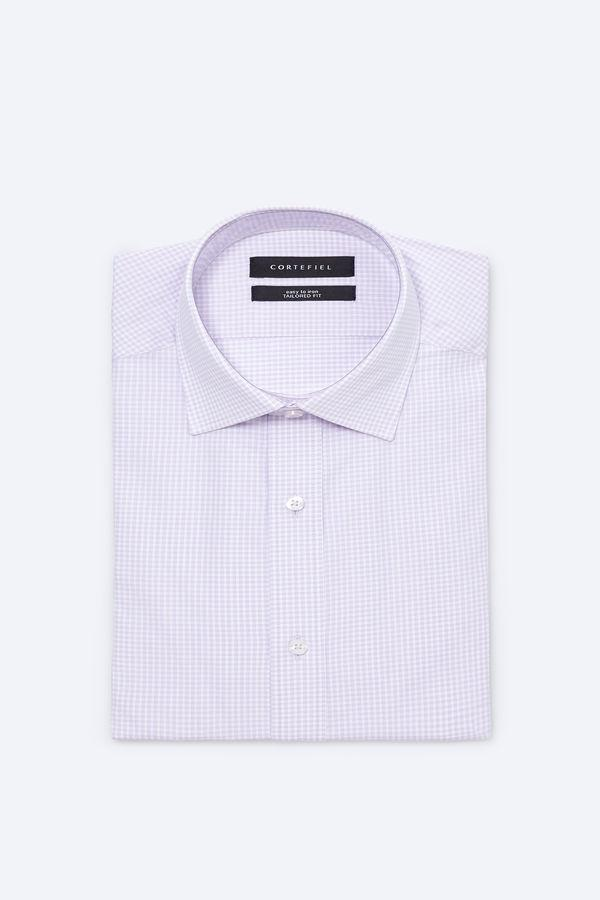teeshirt: (86, 201, 511, 759)
